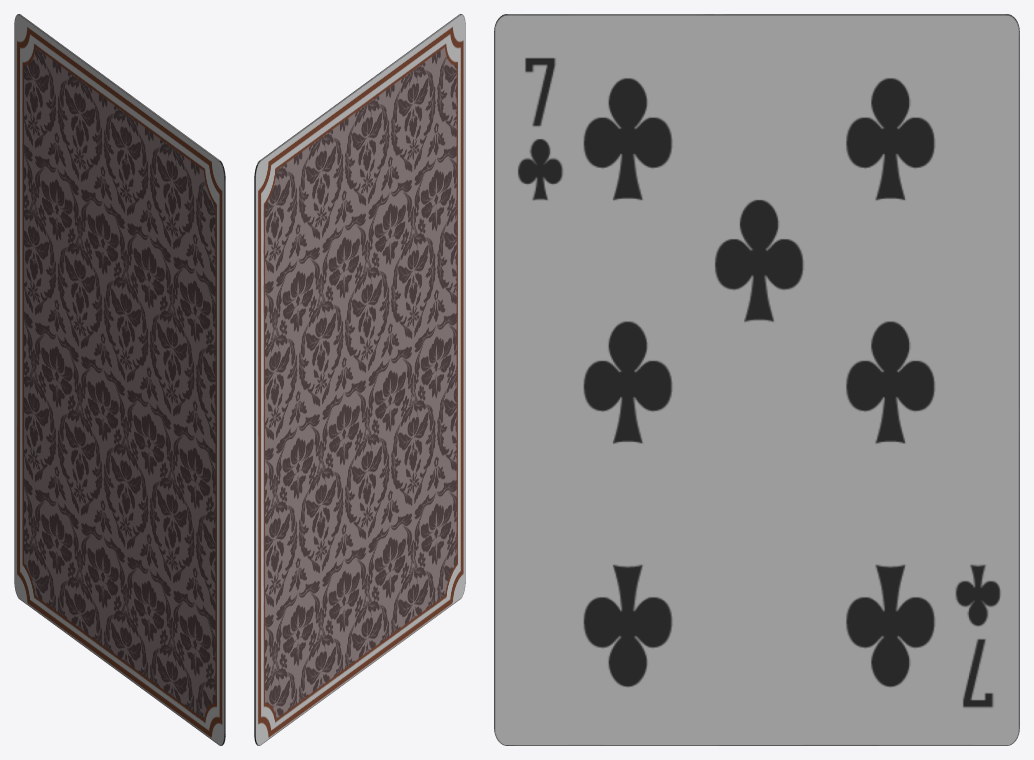
Rendered from clover7.glb.
The picture shows the model from 3 angles, left to right: view 1: azimuth 30°, elevation 25°; view 2: azimuth 150°, elevation 25°; view 3: azimuth 270°, elevation 25°; orthographic projection. The views are drawn at different scales.
Visible parts, largest first — view 1: Cube; view 2: Cube; view 3: Cube.
Boxes of the visible parts, x1,y1,x2,y2 form: Cube: [14, 14, 225, 745]; Cube: [254, 14, 465, 745]; Cube: [494, 14, 1019, 745].
Bounding box in the file's own units: 0.036 × 17.8 × 11.6.
Materials: 1 (1 with a texture image).
